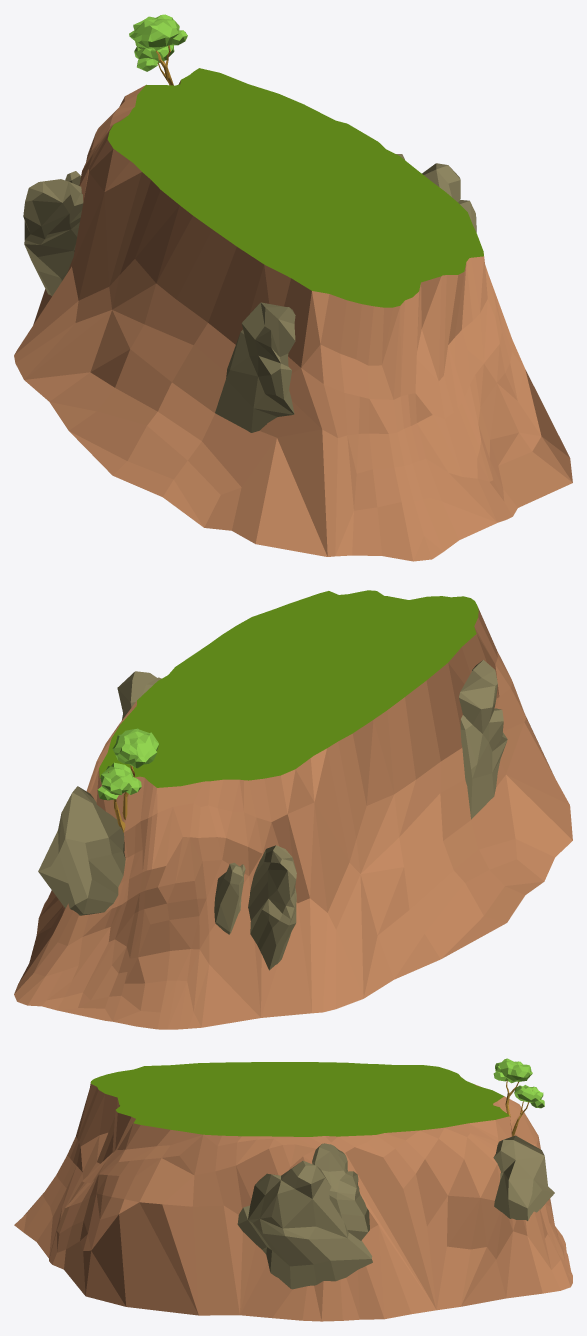
Rendered from Islands_03.FBX.
3 views of the same model, one above another, from view 1: azimuth 30°, elevation 25°; view 2: azimuth 150°, elevation 25°; view 3: azimuth 270°, elevation 25° (orthographic). The views are drawn at different scales.
Parts seen in each view (by area): view 1: Islands_03; view 2: Islands_03; view 3: Islands_03.
Boxes of the visible parts, x1,y1,x2,y2 form: Islands_03: [14, 14, 572, 561]; Islands_03: [14, 590, 572, 1029]; Islands_03: [14, 1058, 572, 1321].
Size of the model in its own units: 2859 by 1941 by 4811.
